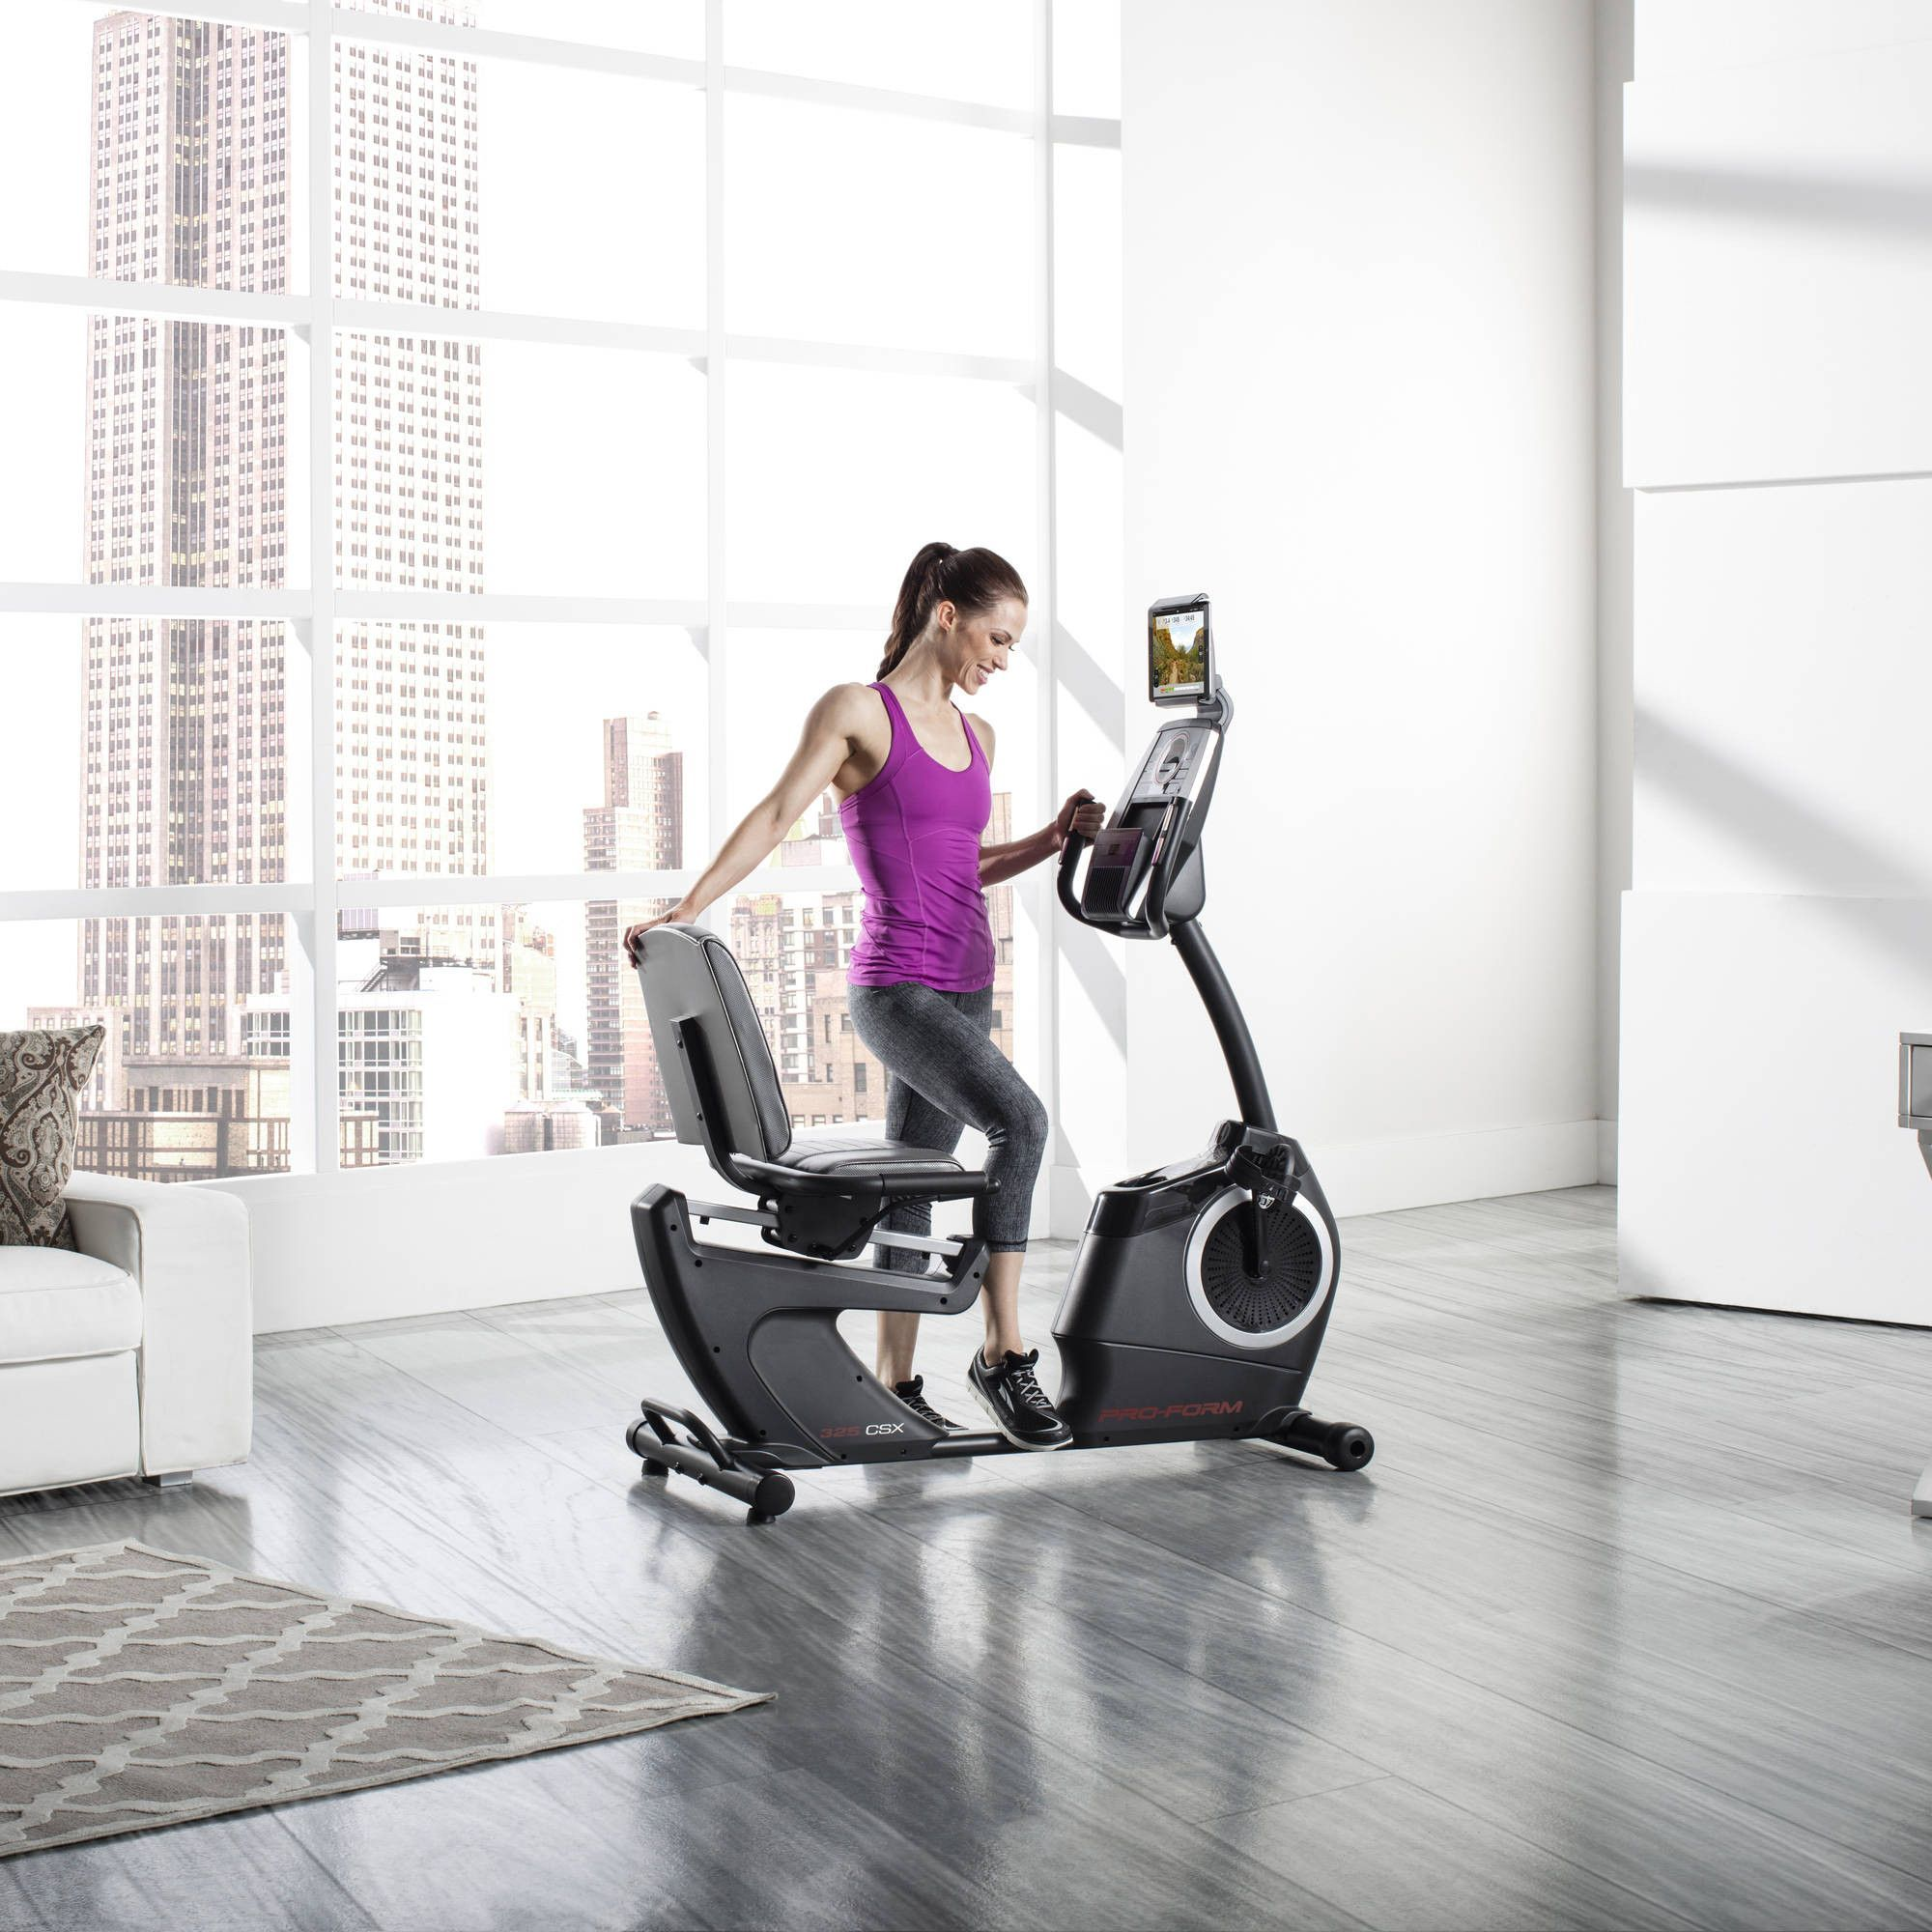gym_bike: (506, 616, 1387, 1493)
